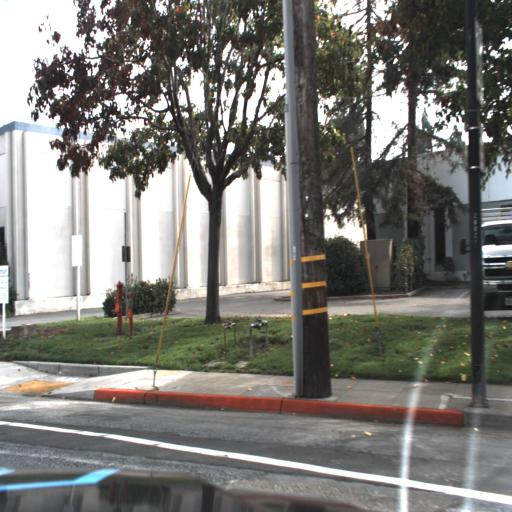truck: (459, 207, 512, 308)
